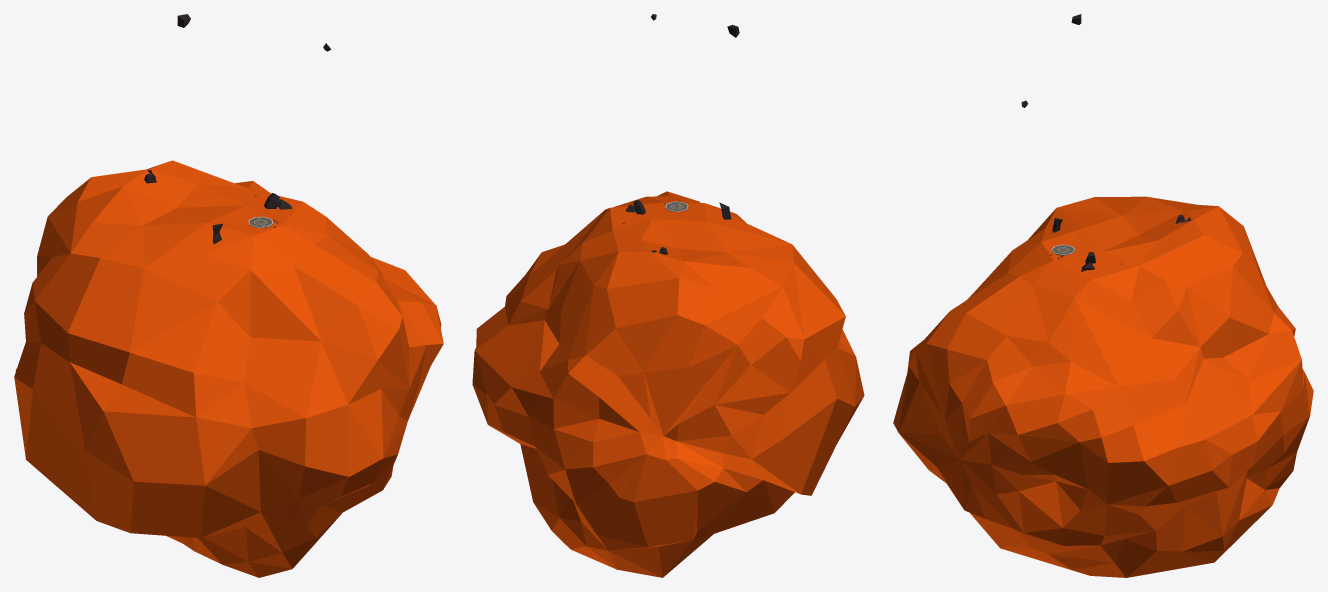
Rendered from Planet3.glb.
The picture shows the model from 3 angles, left to right: view 1: azimuth 30°, elevation 25°; view 2: azimuth 150°, elevation 25°; view 3: azimuth 270°, elevation 25°; orthographic projection. The views are drawn at different scales.
Parts seen in each view (by area): view 1: Sphere; view 2: Sphere; view 3: Sphere.
Part boxes in pixels (x1,y1,x2,y2): Sphere: (14,160,443,577); Sphere: (472,191,864,577); Sphere: (893,196,1313,577).
Size of the model in its own units: 40.27 by 58.19 by 42.16.
